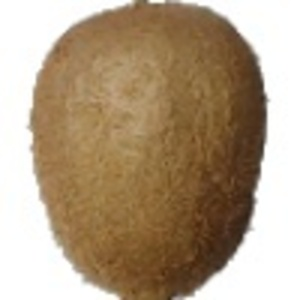kiwi: (27, 1, 269, 300)
